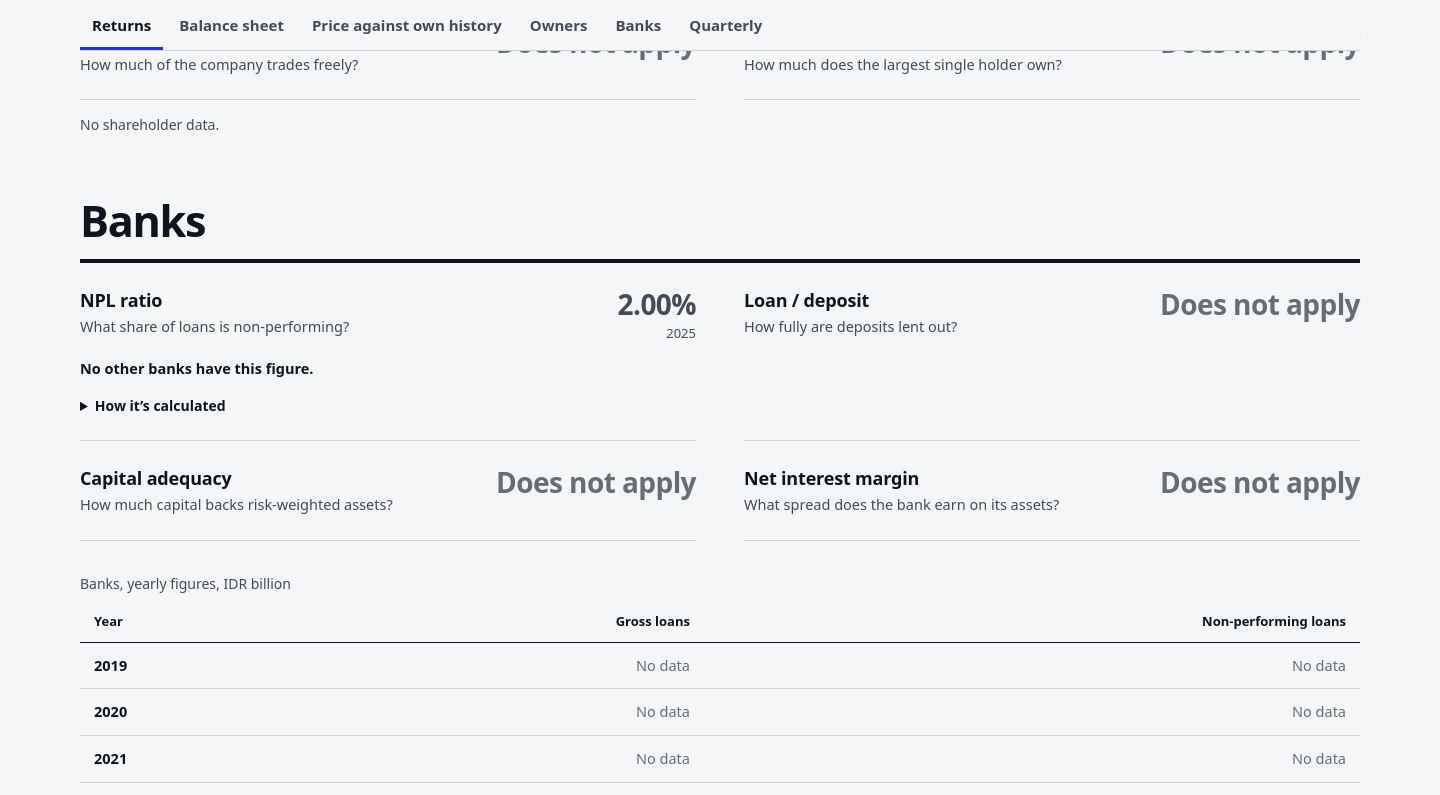
Scenario: Company profile page › displays dividends as IDR per share in history and sourced evidence
(page scrolled)
Click the heading "How it’s calculated": (160, 406) [95,396,226,416]
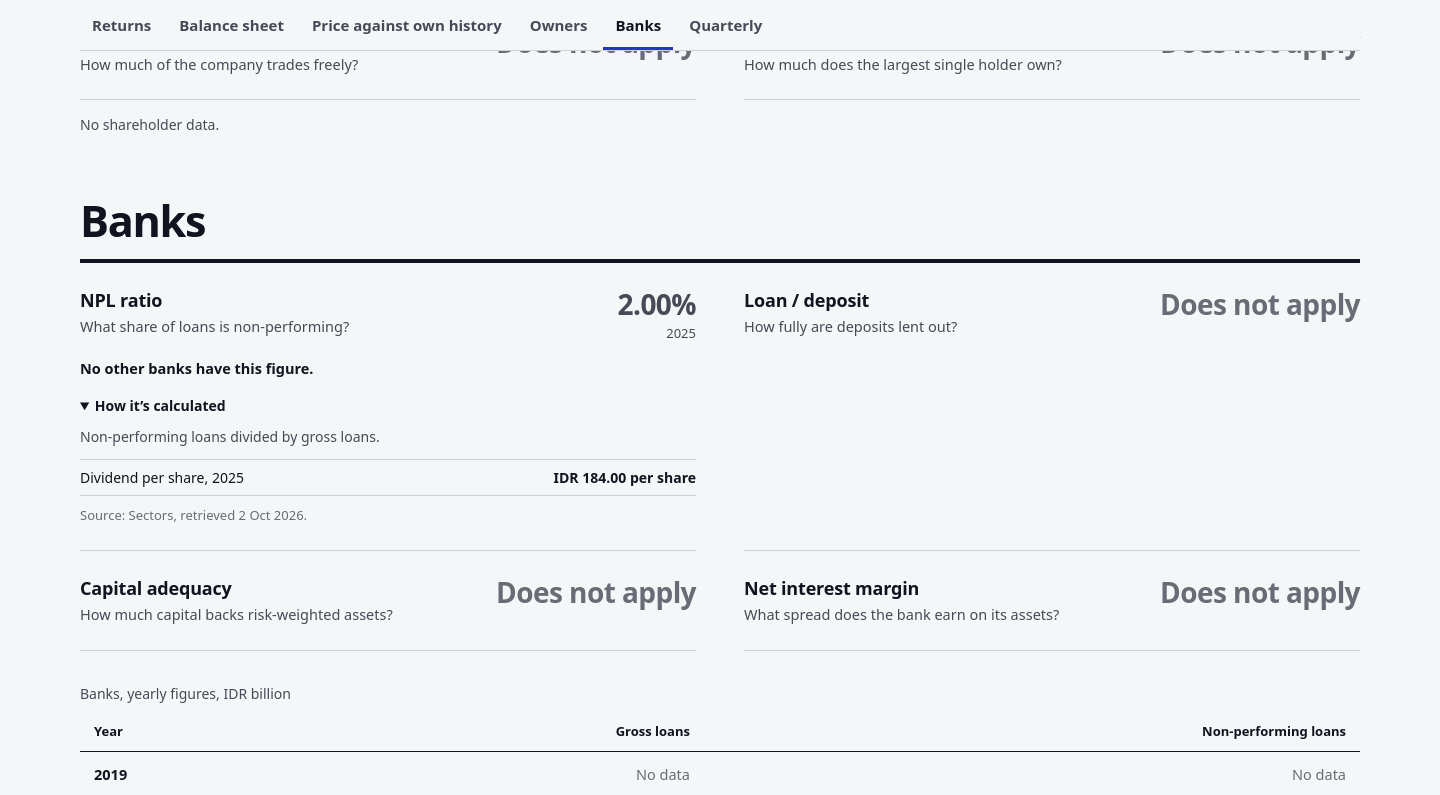
Now the text "Dividend per share, 2025" is shown, box [80,468,244,488]
